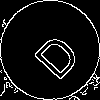D: (25, 25, 83, 83)
